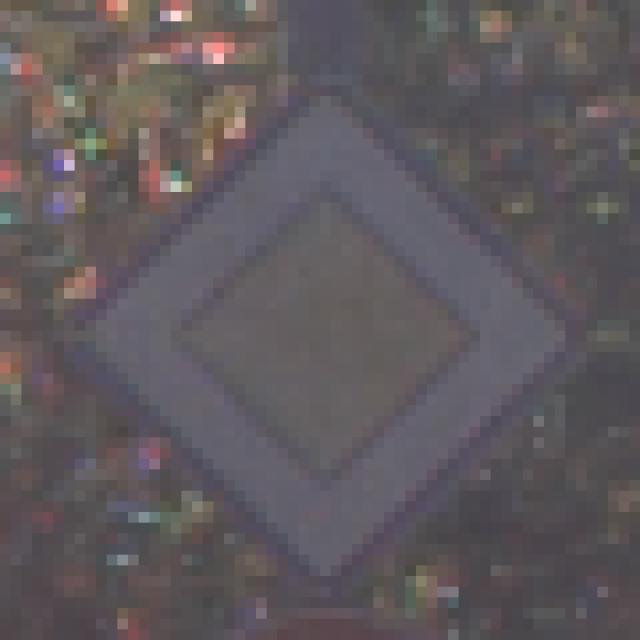Main Road: (65, 65, 588, 588)
